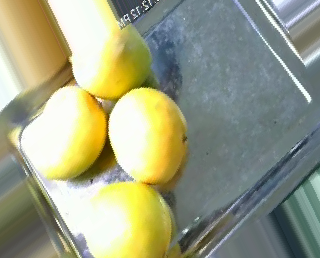Mango: (23, 85, 106, 181), (108, 87, 185, 183), (87, 182, 172, 258), (71, 22, 151, 99)
